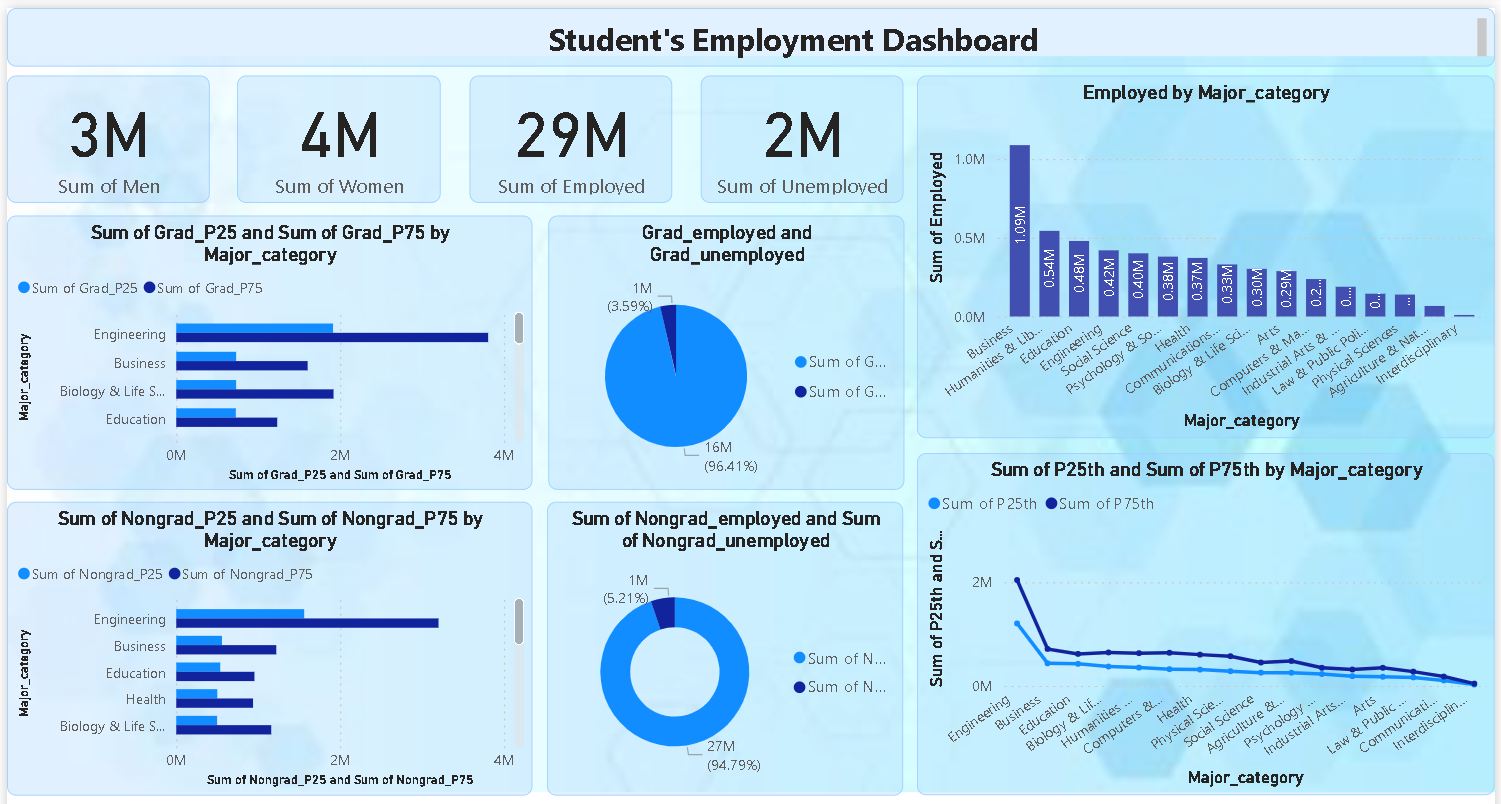

The dashboard page shown, as its layout file describes it:
{"tool":"powerbi","page":{"name":"Page 1","canvas":[1280,720],"ordinal":0},"visuals":[{"type":"clusteredColumnChart","title":"Employed by Major_category","fields":{"Category":["recent-grads (1).Major_category"],"Y":["Sum(recent-grads (1).Employed)"]},"box":[783.2,58.4,497.1,312.3],"z":0},{"type":"textbox","box":[0,0,1280.2,50.1],"z":1000},{"type":"donutChart","fields":{"Y":["Sum(grad-students.Nongrad_employed)","Sum(grad-students.Nongrad_unemployed)"]},"box":[464.9,424.4,306.4,252.7],"z":2000},{"type":"pieChart","title":"Grad_employed and Grad_unemployed","fields":{"Y":["Sum(grad-students.Grad_employed)","Sum(grad-students.Grad_unemployed)"]},"box":[466.1,178.8,306.4,236],"z":3000},{"type":"clusteredBarChart","fields":{"Category":["recent-grads (1).Major_category"],"Y":["Sum(grad-students.Nongrad_P25)","Sum(grad-students.Nongrad_P75)"]},"box":[0,424.4,451.8,252.7],"z":4000},{"type":"lineChart","fields":{"Category":["recent-grads (1).Major_category"],"Y":["Sum(recent-grads (1).P25th)","Sum(recent-grads (1).P75th)"]},"box":[783.2,382.6,497.1,294.4],"z":5000},{"type":"clusteredBarChart","fields":{"Category":["grad-students.Major_category"],"Y":["Sum(grad-students.Grad_P25)","Sum(grad-students.Grad_P75)"]},"box":[0,178.8,451.8,236],"z":6000},{"type":"card","fields":{"Values":["Sum(recent-grads (1).Men)"]},"box":[0,58.4,174,109.7],"z":7000},{"type":"card","fields":{"Values":["Sum(recent-grads (1).Women)"]},"box":[197.9,58.4,175.2,109.7],"z":8000},{"type":"card","fields":{"Values":["Sum(all-ages.Employed)"]},"box":[398.1,58.4,174,109.7],"z":9000},{"type":"card","fields":{"Values":["Sum(all-ages.Unemployed)"]},"box":[597.2,58.4,174,109.7],"z":10000}]}

Visuals, with their boxes on the page's 1280x720 design canvas (x1, y1, x2, y2). These are canvas units, not pixel positions in the 1501x804 screenshot, which may show the page scaled, cropped or inside an application window:
"Employed by Major_category" clusteredColumnChart: select_region(783, 58, 1280, 371)
textbox: select_region(0, 0, 1280, 50)
donutChart - Sum(grad-students.Nongrad_employed) x Sum(grad-students.Nongrad_unemployed): select_region(465, 424, 771, 677)
"Grad_employed and Grad_unemployed" pieChart: select_region(466, 179, 772, 415)
clusteredBarChart - recent-grads (1).Major_category x Sum(grad-students.Nongrad_P25): select_region(0, 424, 452, 677)
lineChart - recent-grads (1).Major_category x Sum(recent-grads (1).P25th): select_region(783, 383, 1280, 677)
clusteredBarChart - grad-students.Major_category x Sum(grad-students.Grad_P25): select_region(0, 179, 452, 415)
card - Sum(recent-grads (1).Men): select_region(0, 58, 174, 168)
card - Sum(recent-grads (1).Women): select_region(198, 58, 373, 168)
card - Sum(all-ages.Employed): select_region(398, 58, 572, 168)
card - Sum(all-ages.Unemployed): select_region(597, 58, 771, 168)
